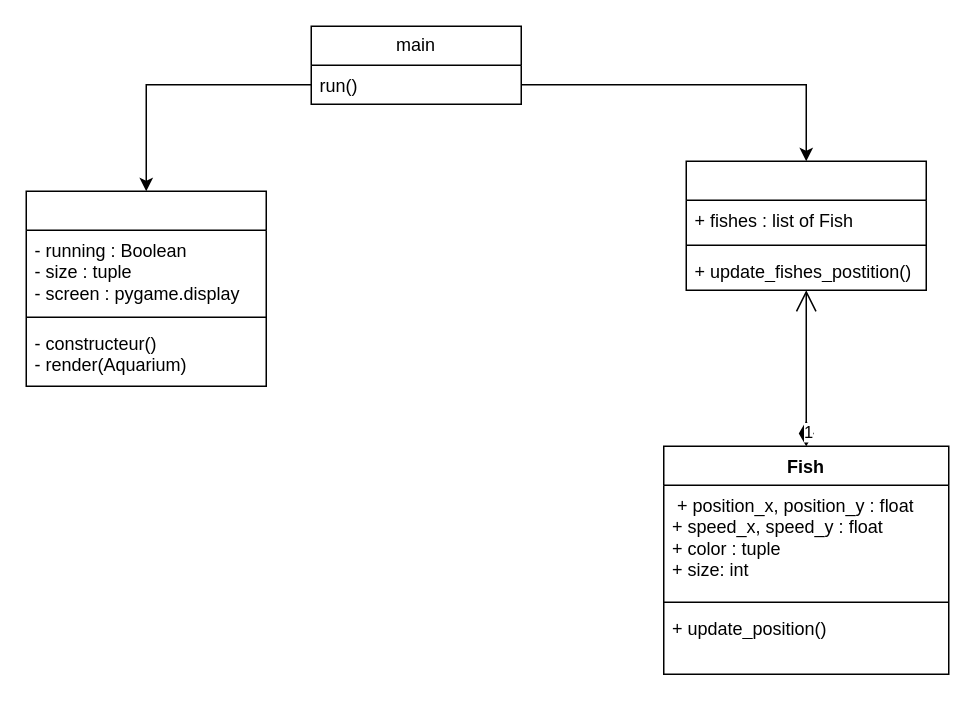
This 975x705 diagram has some shape labels left out. Here are the shapes that lost their labels. From the top down, the box of each, then its label:
(685, 160, 926, 290): Aquarium
(25, 190, 266, 386): User_Interface
